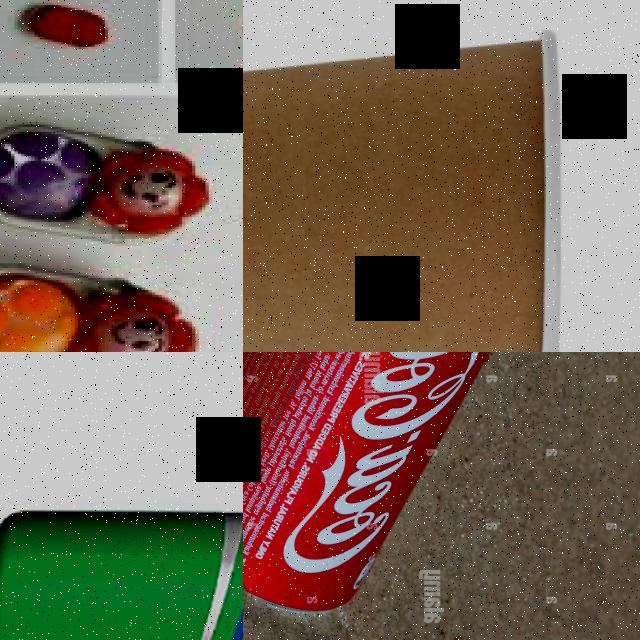can: (243, 352, 522, 615), (0, 511, 243, 640)
cup: (243, 29, 565, 352)
